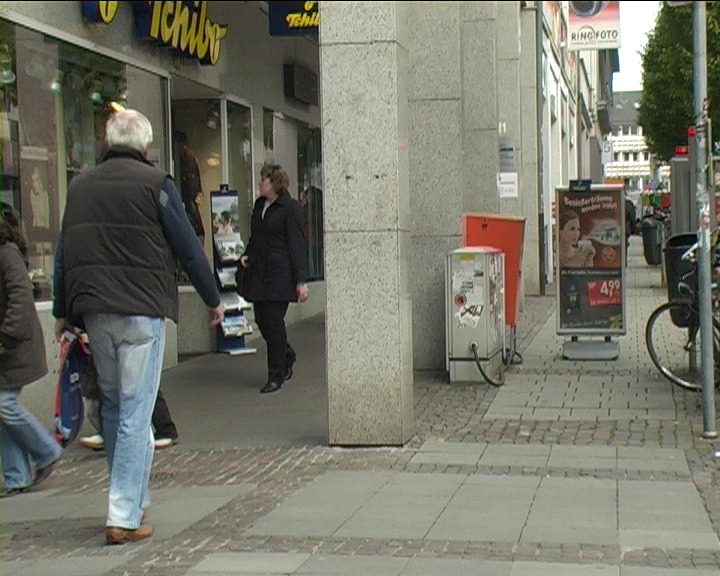deflection: (247, 161, 301, 233)
